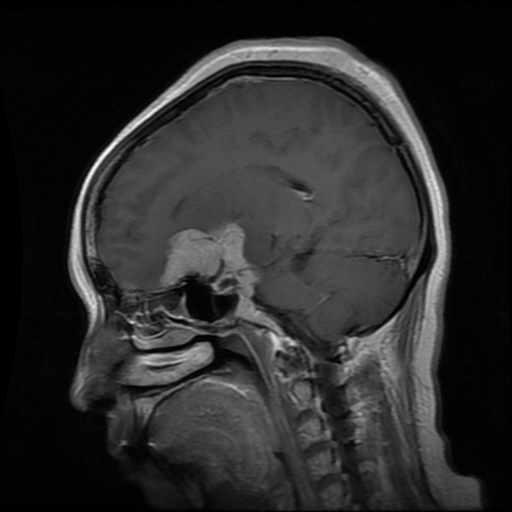meningioma: (158, 222, 258, 293)
